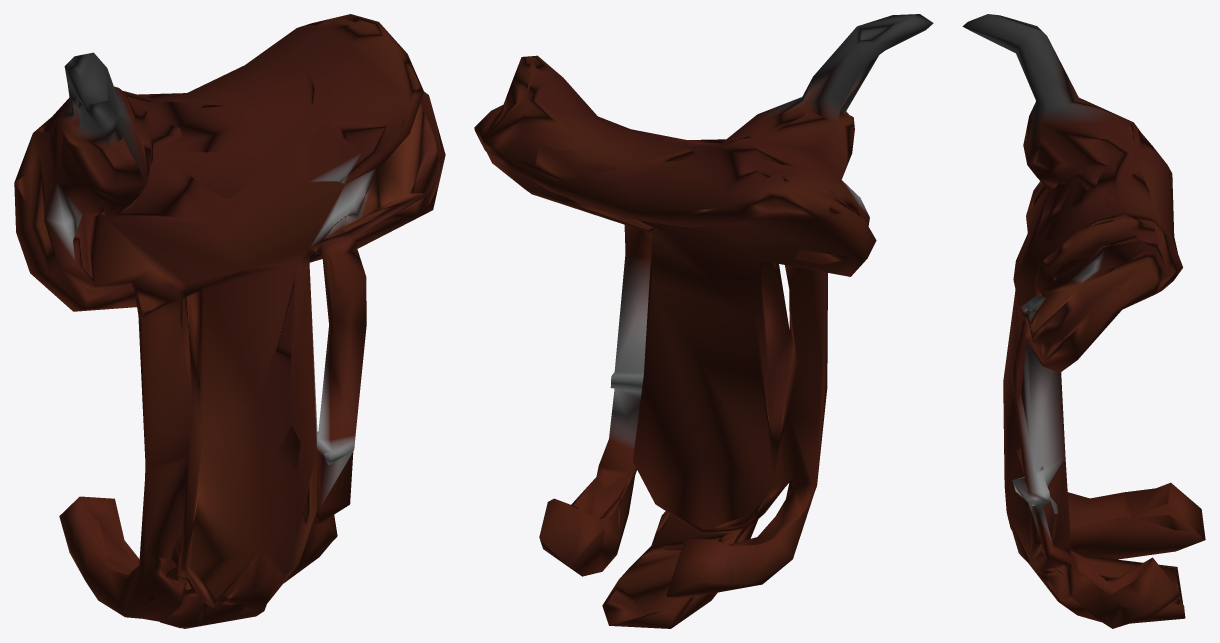
The model's file is gen3d-saddle-lod1.glb.
3 renders of one model, left to right at view 1: azimuth 30°, elevation 25°; view 2: azimuth 150°, elevation 25°; view 3: azimuth 270°, elevation 25°, orthographic. The views are drawn at different scales.
Parts seen in each view (by area): view 1: part_0; view 2: part_0; view 3: part_0.
Part boxes in pixels (bbox=[...]): part_0: bbox=[14, 14, 445, 628]; part_0: bbox=[474, 14, 933, 628]; part_0: bbox=[962, 14, 1205, 628].
Bounding box in the file's own units: 0.683 × 0.9972 × 0.4211.
